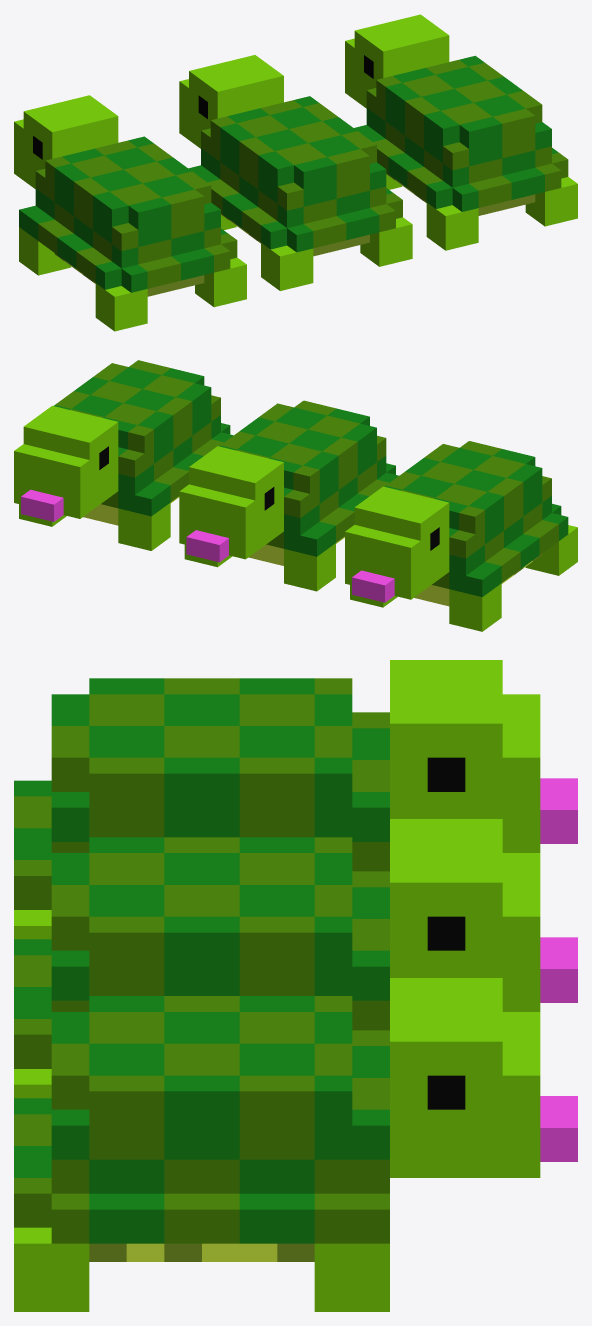
The model's file is DoubleTurtle.obj.
3 renders of one model, top to bottom at view 1: azimuth 30°, elevation 25°; view 2: azimuth 150°, elevation 25°; view 3: azimuth 270°, elevation 25°, orthographic. The views are drawn at different scales.
Size of the model in its own units: 28 by 7 by 15.
